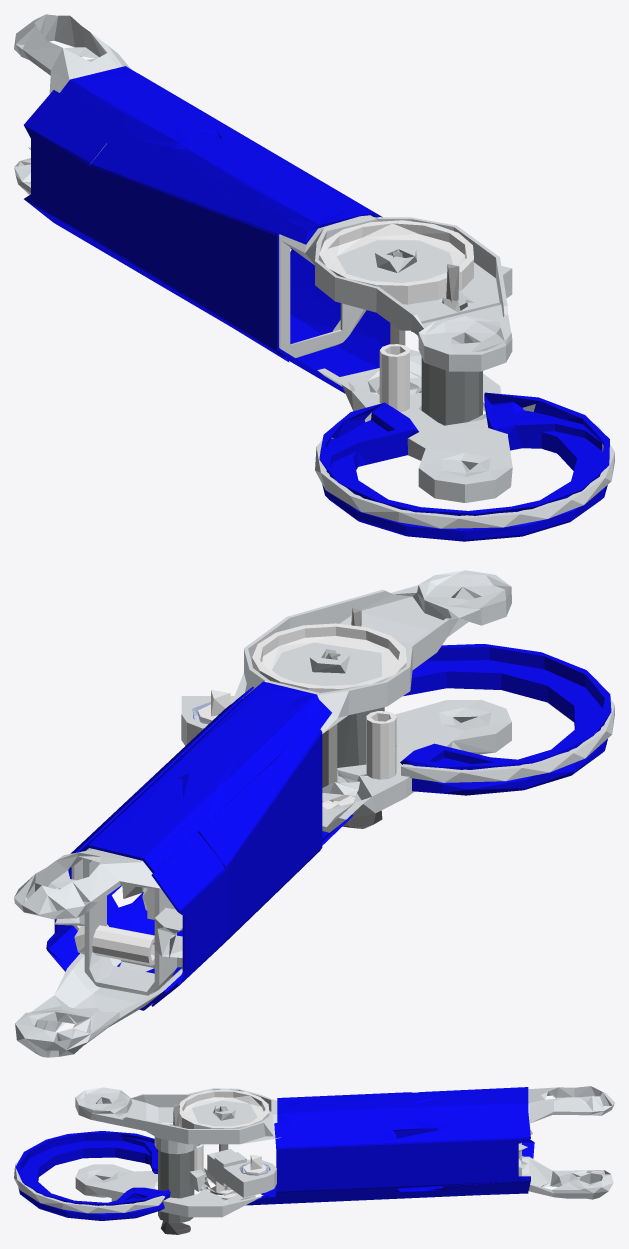
Rendered from RLEG_LINK3_mesh.dae.
The picture shows the model from 3 angles, top to bottom: view 1: azimuth 30°, elevation 25°; view 2: azimuth 150°, elevation 25°; view 3: azimuth 270°, elevation 25°; orthographic projection. The views are drawn at different scales.
Parts seen in each view (by area): view 1: RLEG_LINK3 (×12); view 2: RLEG_LINK3 (×17); view 3: RLEG_LINK3 (×18).
Part boxes in pixels (left/top/right/bottom): RLEG_LINK3 (×12): left=14, top=14, right=614, bottom=541; RLEG_LINK3 (×17): left=14, top=570, right=614, bottom=1057; RLEG_LINK3 (×18): left=14, top=1086, right=614, bottom=1234.
Size of the model in its own units: 0.1659 by 0.1126 by 0.4932.
